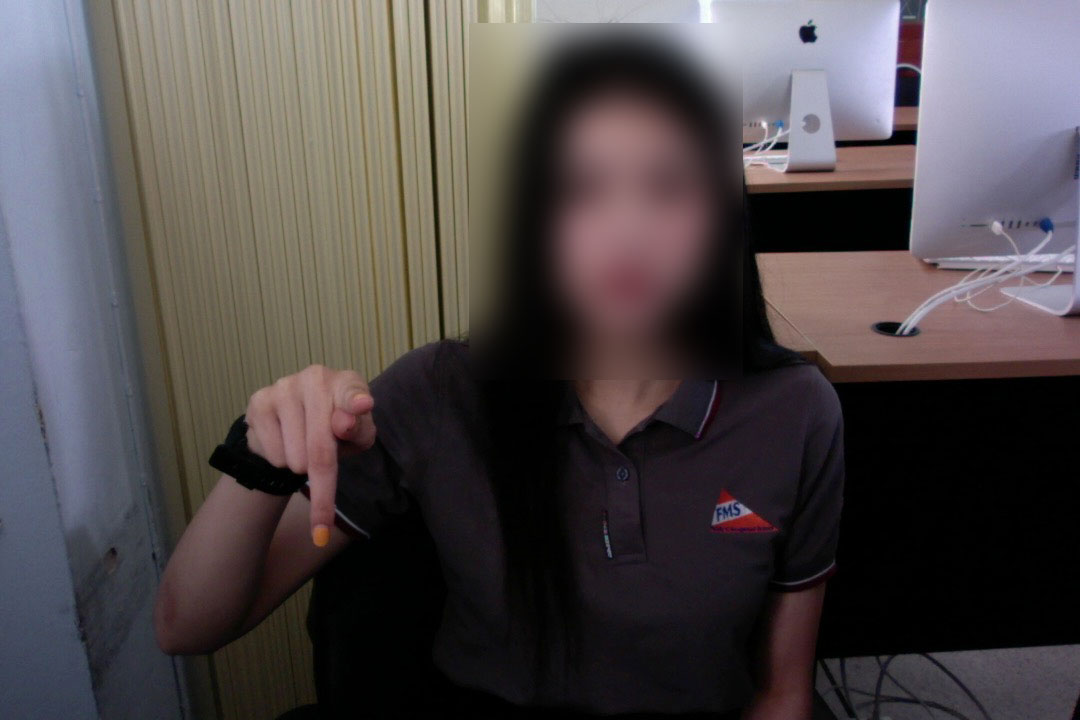por: (240, 353, 379, 558)
